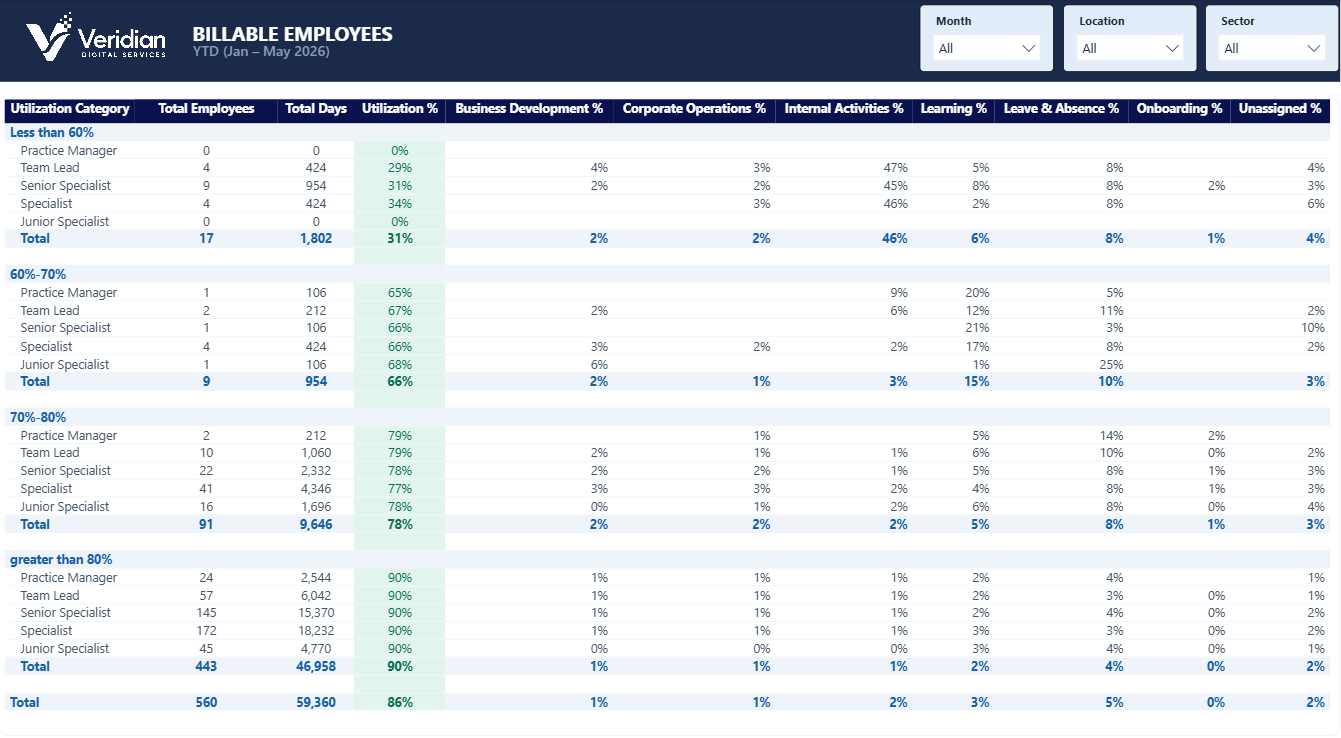

Layout of this report page (visuals, bound fields, positions):
{"tool":"powerbi","page":{"name":"Billable Segmentation","canvas":[1280,720],"ordinal":6},"visuals":[{"type":"shape","box":[0,0,1280,80],"z":0,"group":"g1"},{"type":"pivotTable","fields":{"Rows":["Dim_Billable_Category (2).Billable Emp Categorization","Dim_Employee.Employee Grade"],"Values":["_Measures.Total Employees","_Measures.Total Days","_Measures.Utilization %","_Measures.Business Development %","_Measures.Corporate Operations %","_Measures.Internal Activities %","_Measures.Learning %","_Measures.Leave & Absence %","_Measures.Onboarding %","_Measures.Unassigned %"]},"box":[0,96,1280,608],"z":0},{"type":"group","id":"g1","title":"Group 2","box":[0,0,1280,80],"z":1000},{"type":"textbox","box":[179.3,15.4,352,48],"z":2000},{"type":"cardVisual","fields":{"Data":["_Measures.YTD Label"]},"box":[173.3,17.4,192,64],"z":3000},{"type":"slicer","fields":{"Values":["Dim_Location.Reporting Location Group"]},"box":[1015.3,7,128,64],"z":4000},{"type":"slicer","fields":{"Values":["Dim_Employee.Sector"]},"box":[1151.3,7,128,64],"z":5000},{"type":"slicer","title":"Location","fields":{"Values":["Dim_Date.Month Year"]},"box":[878,7,128,64],"z":6000},{"type":"image","box":[21,4,144,64],"z":7000}]}

Visuals, with their boxes in screenshot pixels (x1, y1, x2, y2), scaled from the page's 1280x720 canvas onto the 1341x738 screenshot:
shape: x1=0 y1=0 x2=1340 y2=82
pivotTable - Dim_Billable_Category (2).Billable Emp Categorization x Dim_Employee.Employee Grade: x1=0 y1=98 x2=1340 y2=722
"Group 2" group: x1=0 y1=0 x2=1340 y2=82
textbox: x1=188 y1=16 x2=557 y2=65
cardVisual - _Measures.YTD Label: x1=182 y1=18 x2=383 y2=83
slicer - Dim_Location.Reporting Location Group: x1=1064 y1=7 x2=1198 y2=73
slicer - Dim_Employee.Sector: x1=1206 y1=7 x2=1340 y2=73
"Location" slicer: x1=920 y1=7 x2=1054 y2=73
image: x1=22 y1=4 x2=173 y2=70
